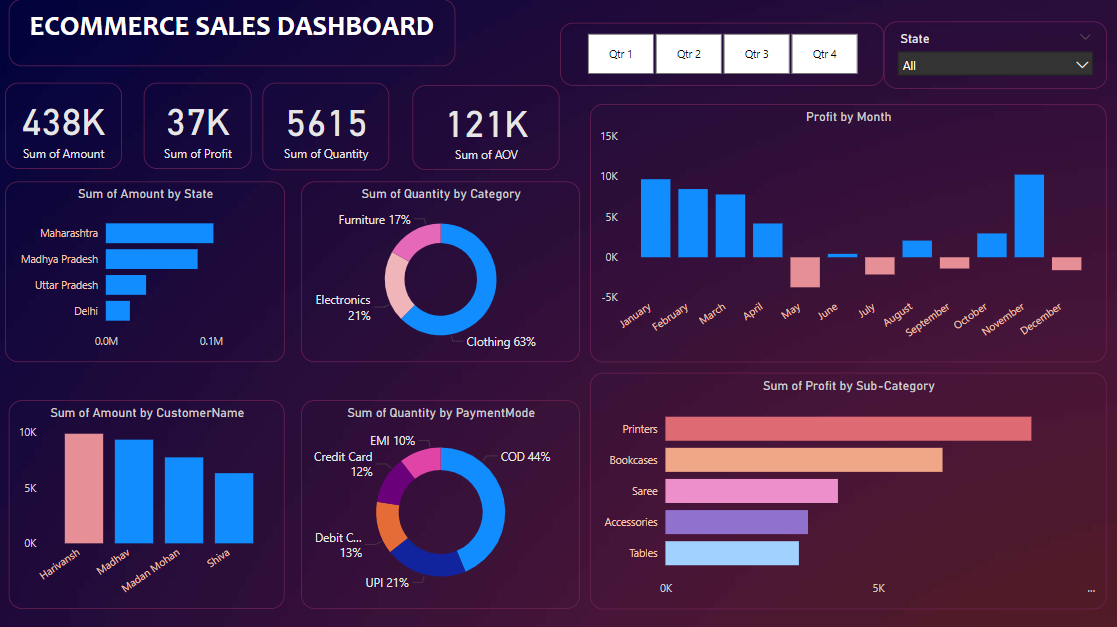

What the dashboard file says about the page in this screenshot:
{"tool":"powerbi","page":{"name":"Page 1","canvas":[1280,720],"ordinal":0},"visuals":[{"type":"textbox","box":[10,0,510,76.7],"z":0},{"type":"columnChart","title":"Profit by Month","fields":{"Y":["Details.Profit"],"Category":["Orders.Order Date.Variation.Date Hierarchy.Month"]},"box":[675,120,590,295],"z":1000},{"type":"clusteredBarChart","fields":{"Category":["Details.Sub-Category"],"Y":["Details.Profit"]},"box":[675,426.7,590,270],"z":2000},{"type":"donutChart","fields":{"Category":["Details.Category"],"Y":["Details.Quantity"]},"box":[345,208.3,318.3,206.7],"z":3000},{"type":"donutChart","fields":{"Y":["Details.Quantity"],"Category":["Details.PaymentMode"]},"box":[345,458.3,318.3,238.3],"z":4000},{"type":"card","fields":{"Values":["Details.Amount"]},"box":[10,101.4,131.4,94.3],"z":5000},{"type":"card","fields":{"Values":["Details.Quantity"]},"box":[325.7,95.7,145.7,100],"z":6000},{"type":"card","fields":{"Values":["Details.Profit"]},"box":[155.7,98.6,151.4,97.1],"z":7000},{"type":"card","fields":{"Values":["Details.AOV"]},"box":[481.4,98.6,158.6,97.1],"z":8000},{"type":"clusteredBarChart","fields":{"Category":["Orders.State"],"Y":["Details.Amount"]},"box":[5,208.3,320,206.7],"z":9000},{"type":"columnChart","fields":{"Category":["Orders.CustomerName"],"Y":["Details.Amount"]},"box":[10,458.3,315,238.3],"z":10000},{"type":"slicer","fields":{"Values":["Orders.State"]},"box":[1010,25,255,76.7],"z":11000},{"type":"slicer","fields":{"Values":["Orders.Order Date.Variation.Date Hierarchy.Quarter"]},"box":[640,26.7,370,71.7],"z":12000}]}

Visuals, with their boxes in screenshot pixels (x1, y1, x2, y2), scaled from the page's 1280x720 canvas onto the 1117x627 screenshot:
textbox: {"left": 9, "top": 0, "right": 454, "bottom": 67}
"Profit by Month" columnChart: {"left": 589, "top": 104, "right": 1104, "bottom": 361}
clusteredBarChart - Details.Sub-Category x Details.Profit: {"left": 589, "top": 372, "right": 1104, "bottom": 607}
donutChart - Details.Category x Details.Quantity: {"left": 301, "top": 181, "right": 579, "bottom": 361}
donutChart - Details.Quantity x Details.PaymentMode: {"left": 301, "top": 399, "right": 579, "bottom": 607}
card - Details.Amount: {"left": 9, "top": 88, "right": 123, "bottom": 170}
card - Details.Quantity: {"left": 284, "top": 83, "right": 411, "bottom": 170}
card - Details.Profit: {"left": 136, "top": 86, "right": 268, "bottom": 170}
card - Details.AOV: {"left": 420, "top": 86, "right": 558, "bottom": 170}
clusteredBarChart - Orders.State x Details.Amount: {"left": 4, "top": 181, "right": 284, "bottom": 361}
columnChart - Orders.CustomerName x Details.Amount: {"left": 9, "top": 399, "right": 284, "bottom": 607}
slicer - Orders.State: {"left": 881, "top": 22, "right": 1104, "bottom": 89}
slicer - Orders.Order Date.Variation.Date Hierarchy.Quarter: {"left": 558, "top": 23, "right": 881, "bottom": 86}
